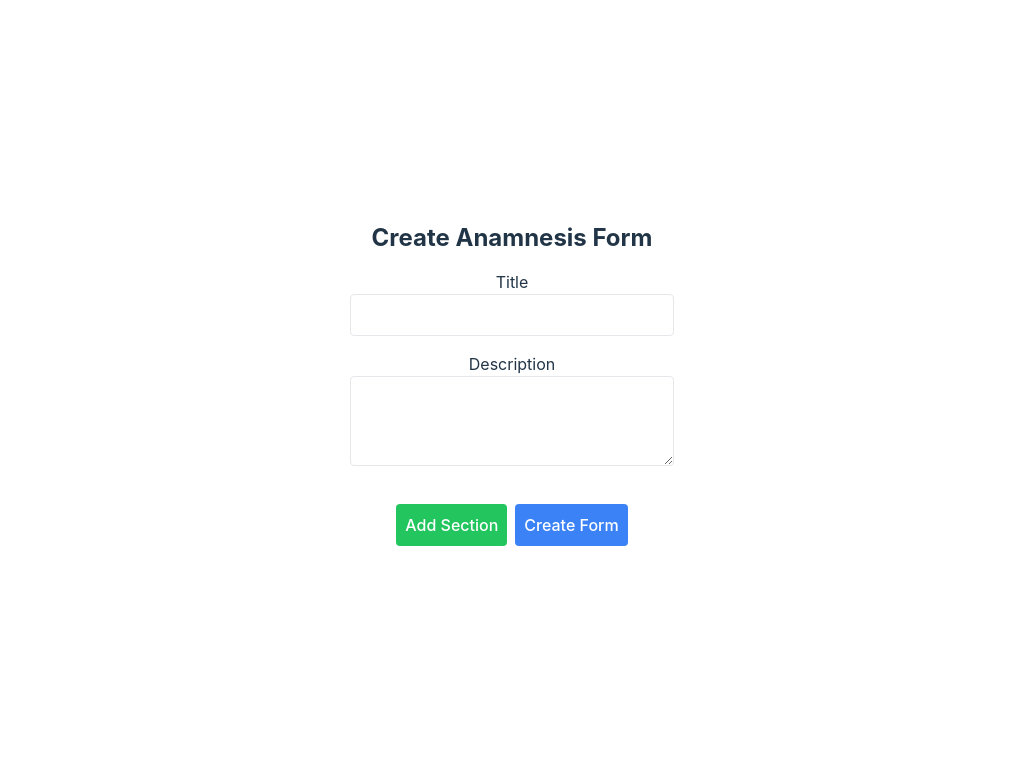
Test: CreateAnamnesisForm › prevents form submission with empty title
Type "Test Description" into the text box labelled "Description".
click(512, 421); type("Test Description")  # box [350,376,674,466]
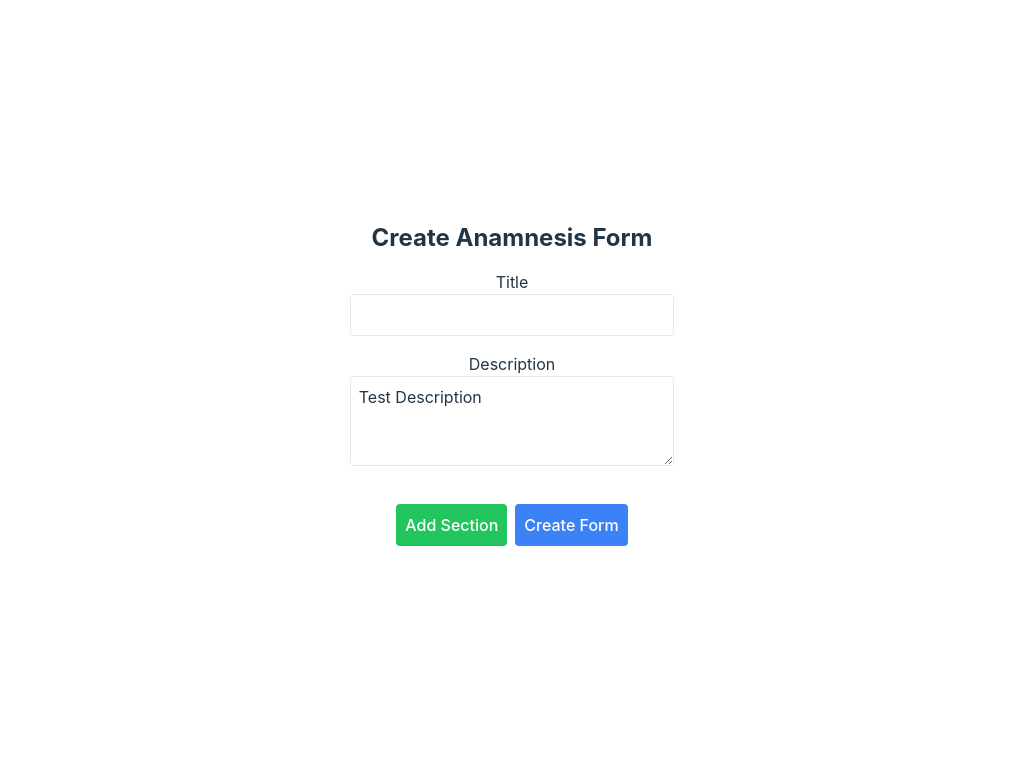
Click the button "Add Section".
click(452, 525)  # box [396,504,507,546]
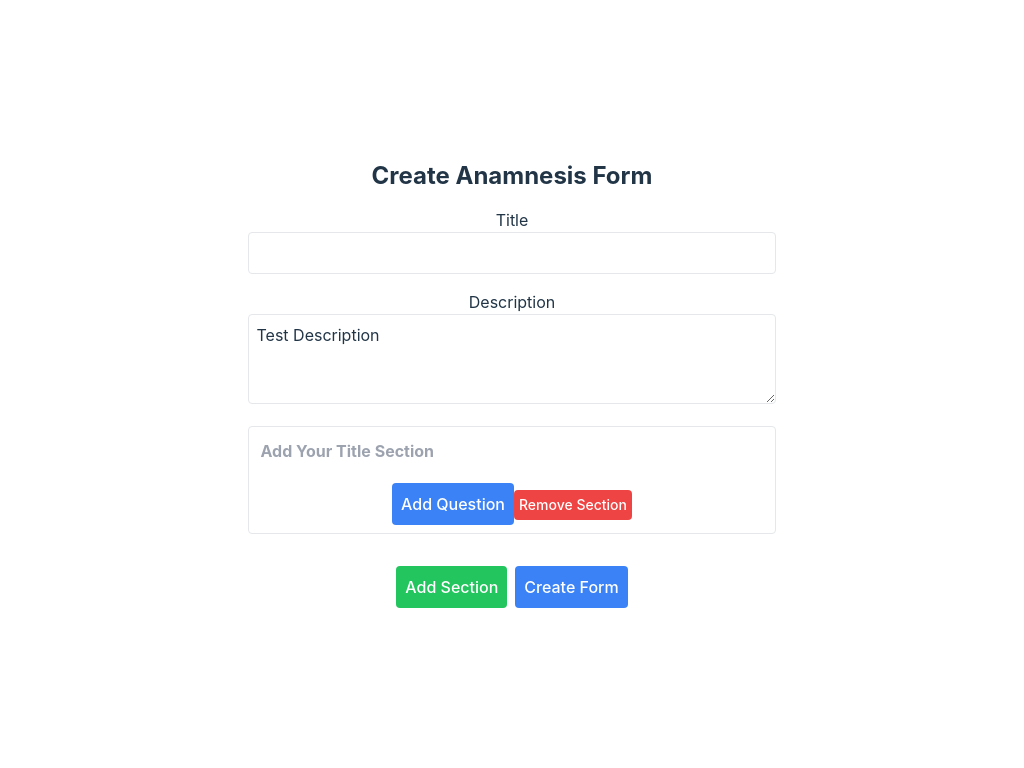
Click the button "Add Question".
click(453, 504)  # box [392,483,514,525]
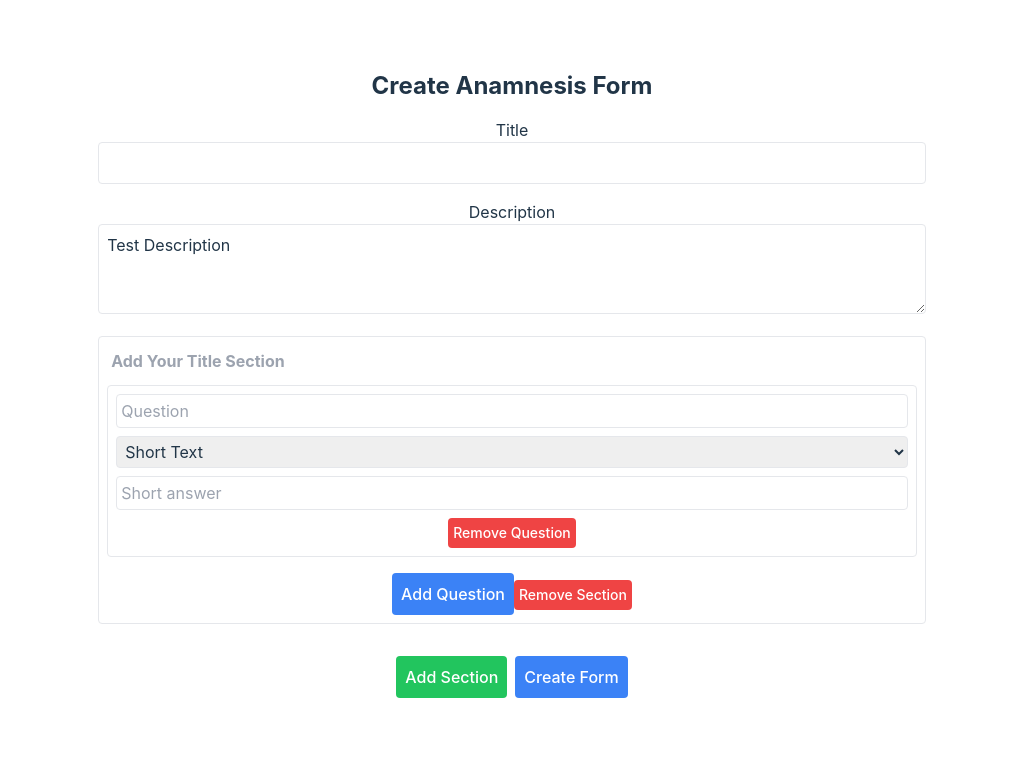
Click the button "Create Form".
click(571, 677)  # box [515,656,628,698]
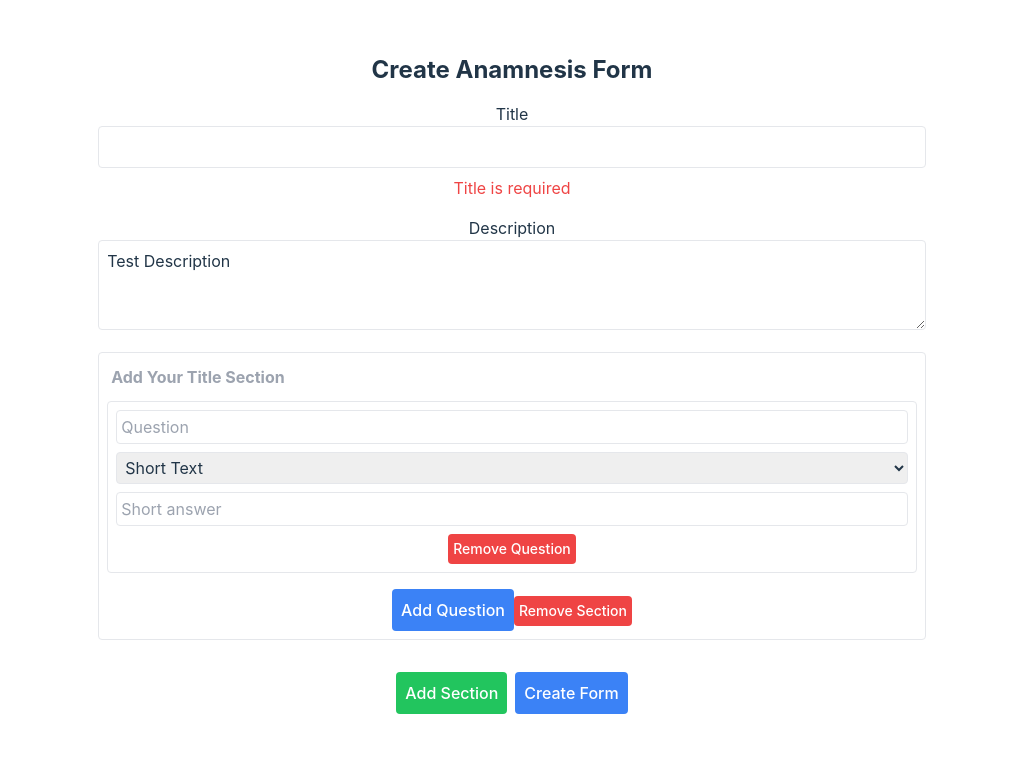
Result: the text "Title is required" is shown at [454,178,571,198]
